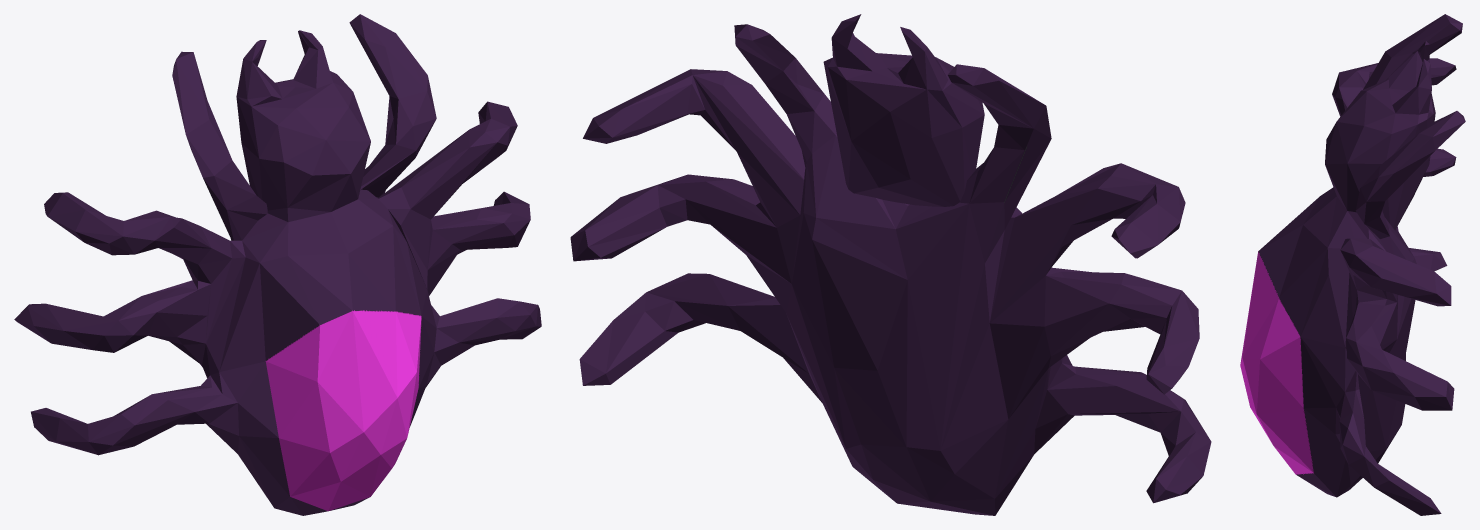
File: aranya.obj
3 renders of one model, left to right at view 1: azimuth 30°, elevation 25°; view 2: azimuth 150°, elevation 25°; view 3: azimuth 270°, elevation 25°, orthographic. The views are drawn at different scales.
Parts seen in each view (by area): view 1: aranya_Cube.066; view 2: aranya_Cube.066; view 3: aranya_Cube.066.
Boxes of the visible parts, x1,y1,x2,y2 form: aranya_Cube.066: [14, 14, 541, 515]; aranya_Cube.066: [570, 14, 1211, 515]; aranya_Cube.066: [1240, 14, 1465, 515].
Size of the model in its own units: 36.71 by 30.71 by 14.5.
Materials: 1 (1 with a texture image).
